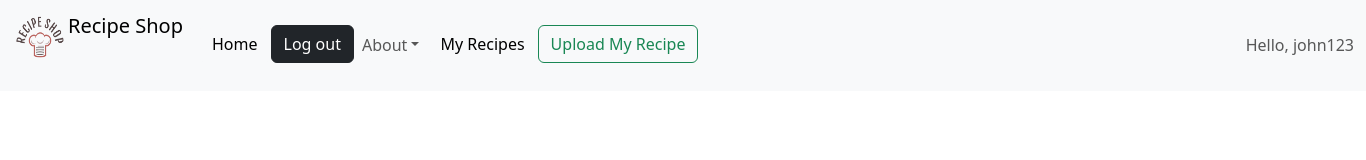
Test: Logout button works properly
The image size is (1366, 160).
Click the button "Log out". click: click(312, 44)
box: top-left (270, 24), bottom-right (354, 62)
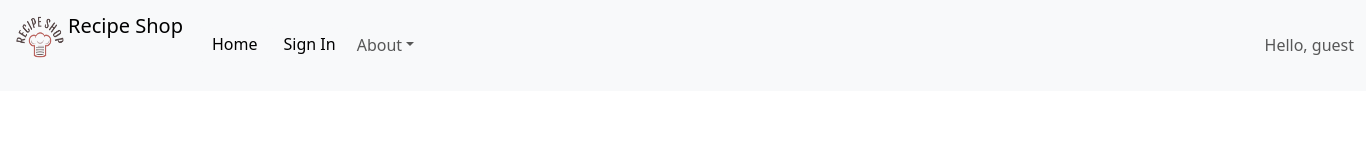
Expected: the text "Hello, guest" is shown, top-left (1264, 34), bottom-right (1354, 56)
Expected: the button "Sign In" is shown, top-left (270, 24), bottom-right (349, 62)
